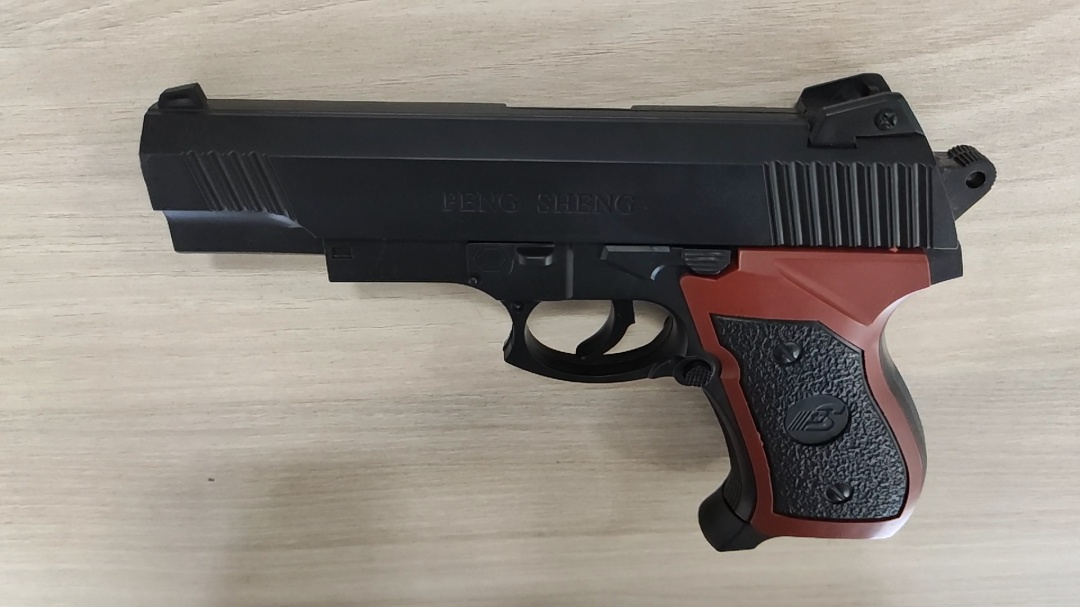gunw: (134, 67, 996, 552)
